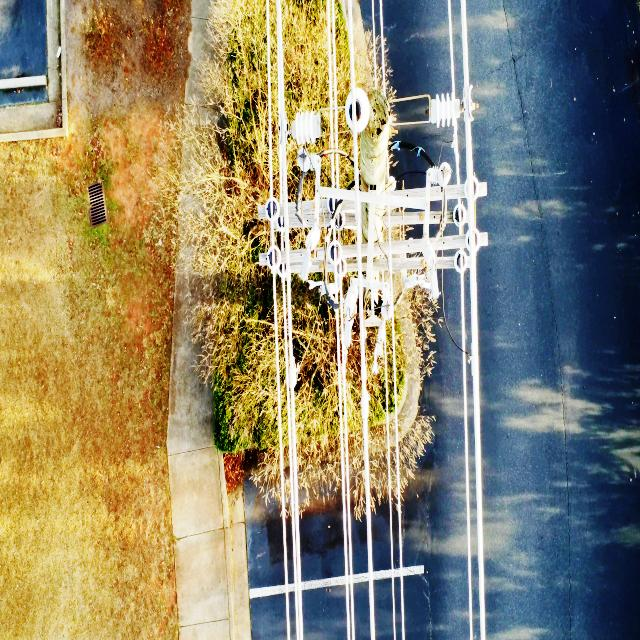poles: (258, 5, 487, 548)
wires: (275, 0, 303, 640), (461, 0, 485, 638), (325, 228, 356, 640), (246, 518, 341, 640), (378, 490, 424, 580), (461, 295, 473, 640), (371, 577, 406, 640), (371, 0, 392, 93), (326, 0, 338, 152), (384, 341, 400, 410), (345, 589, 359, 637), (330, 159, 339, 188)
